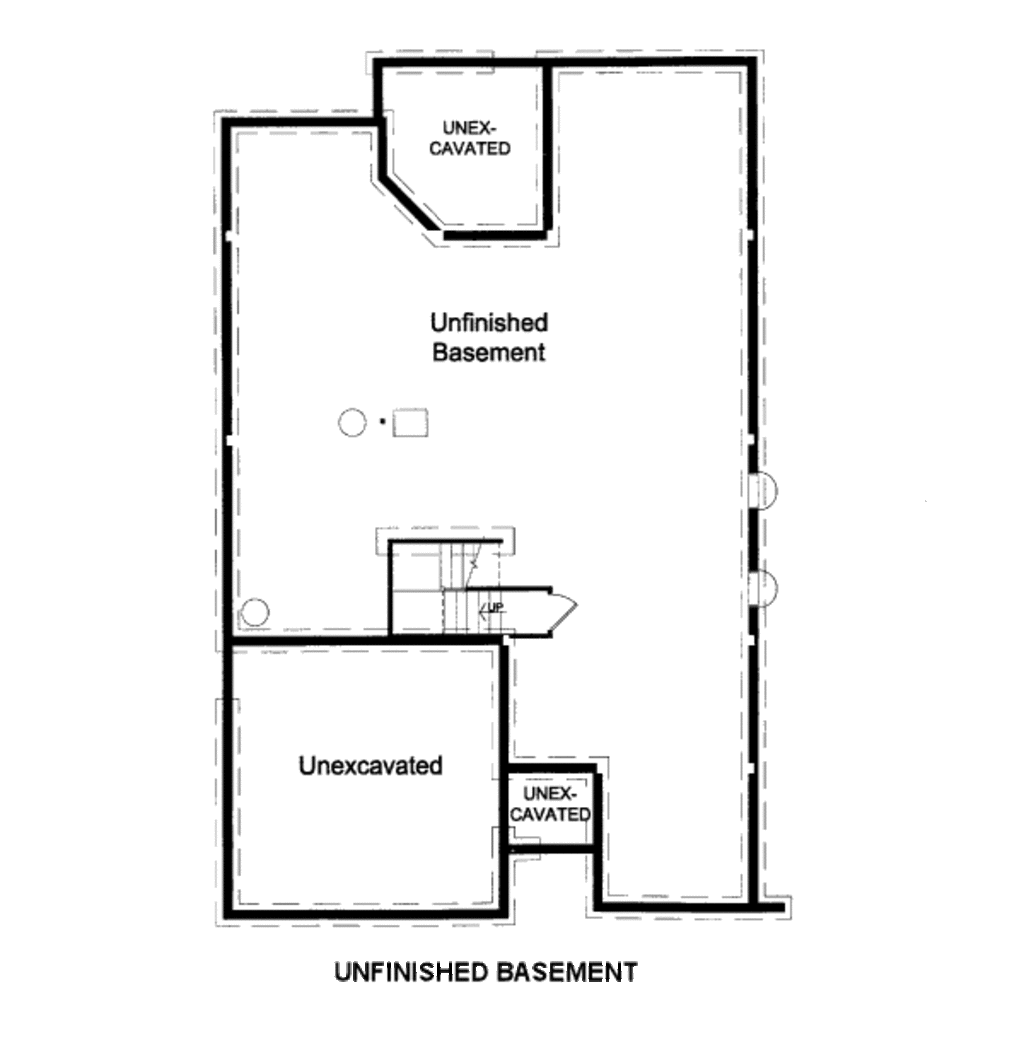door: (539, 585, 583, 644)
stairs: (373, 528, 532, 633)
